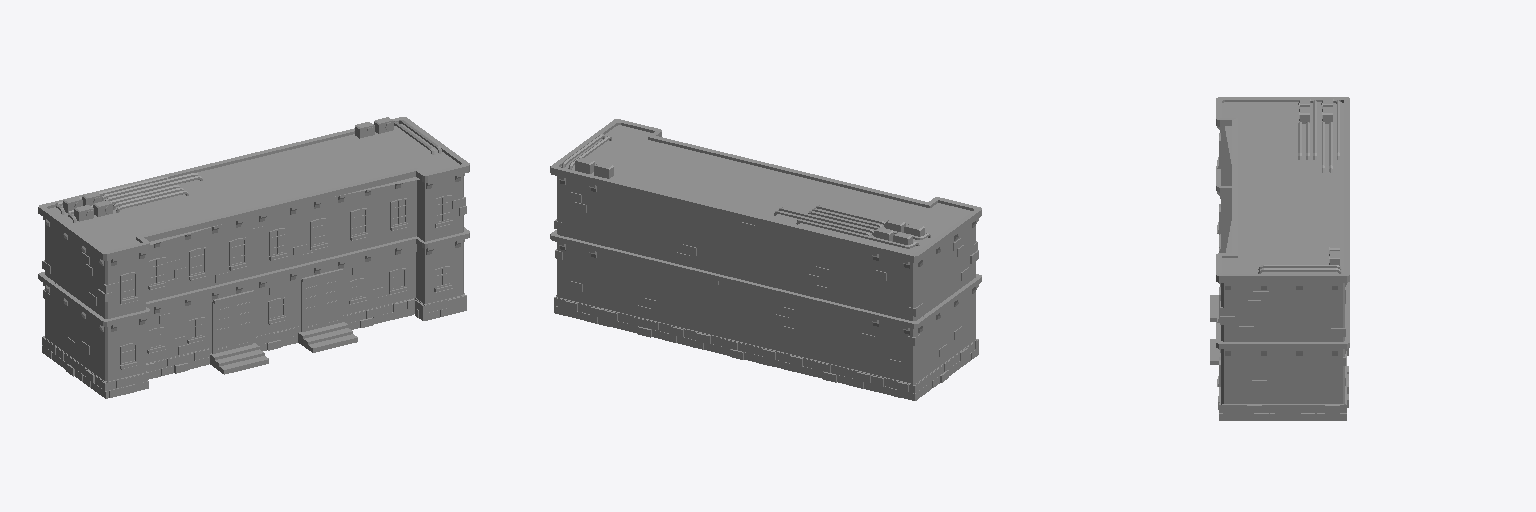
The model's file is 2Story_Wide_2Doors.obj.
3 views of the same model, side by side, from view 1: azimuth 30°, elevation 25°; view 2: azimuth 150°, elevation 25°; view 3: azimuth 270°, elevation 25° (orthographic).
Parts seen in each view (by area): view 1: 2Story_Wide_2Doors_Cube.037; view 2: 2Story_Wide_2Doors_Cube.037; view 3: 2Story_Wide_2Doors_Cube.037.
Part boxes in pixels (left/top/right/bottom): 2Story_Wide_2Doors_Cube.037: left=38, top=117, right=469, bottom=398; 2Story_Wide_2Doors_Cube.037: left=550, top=119, right=981, bottom=400; 2Story_Wide_2Doors_Cube.037: left=1210, top=97, right=1349, bottom=420.
Size of the model in its own units: 6.83 by 2.75 by 2.26.